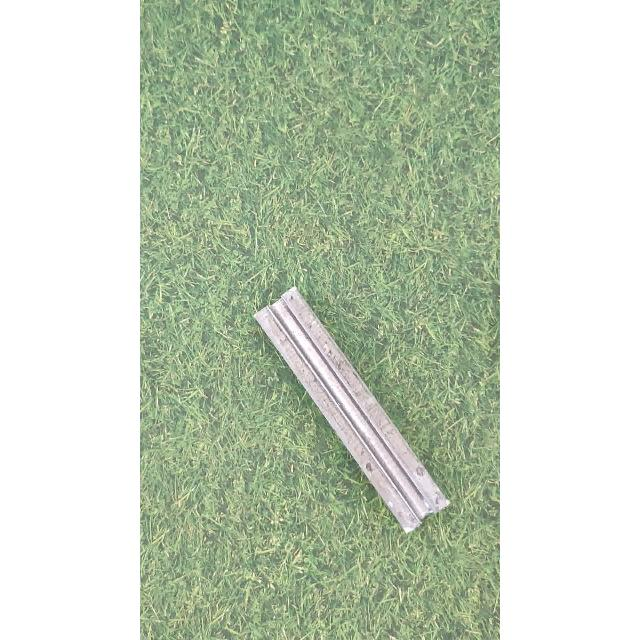F20_20_G: (250, 284, 452, 536)
